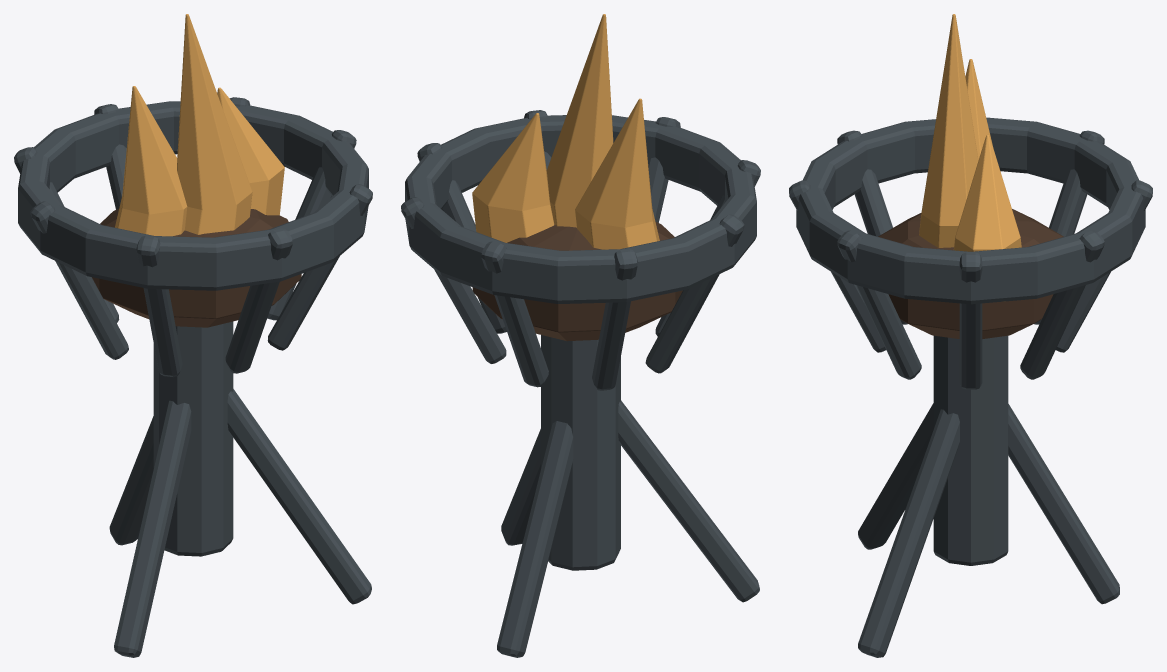
Rendered from watch_brazier.glb.
3 views of the same model, side by side, from view 1: azimuth 30°, elevation 25°; view 2: azimuth 150°, elevation 25°; view 3: azimuth 270°, elevation 25° (orthographic).
Parts seen in each view (by area): view 1: watch_brazier__structure, watch_brazier__attachments; view 2: watch_brazier__structure, watch_brazier__attachments; view 3: watch_brazier__structure, watch_brazier__attachments.
Part boxes in pixels (x1=…): watch_brazier__structure: x1=14, y1=97, x2=372, y2=657; watch_brazier__attachments: x1=92, y1=14, x2=301, y2=327; watch_brazier__structure: x1=401, y1=110, x2=760, y2=657; watch_brazier__attachments: x1=472, y1=14, x2=682, y2=341; watch_brazier__structure: x1=789, y1=117, x2=1152, y2=657; watch_brazier__attachments: x1=878, y1=14, x2=1063, y2=338.
Bounding box in the file's own units: 0.6463 × 1.14 × 0.6463.
